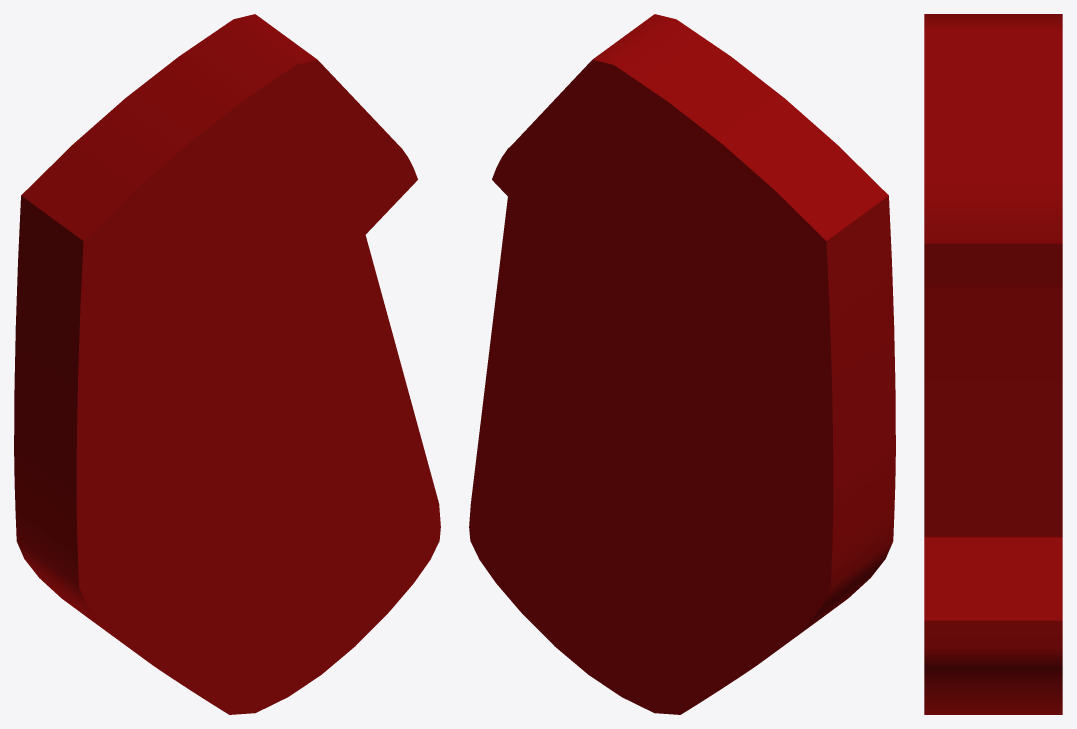
The picture shows the model from 3 angles, left to right: view 1: azimuth 30°, elevation 25°; view 2: azimuth 150°, elevation 25°; view 3: azimuth 270°, elevation 25°; orthographic projection. The views are drawn at different scales.
Visible parts, largest first — view 1: polySurface123; view 2: polySurface123; view 3: polySurface123.
Boxes of the visible parts, <box> form: polySurface123: <box>14,14,440,714</box>; polySurface123: <box>469,14,895,714</box>; polySurface123: <box>924,14,1062,714</box>.
Bounding box in the file's own units: 2.38 × 3.99 × 0.7068.
